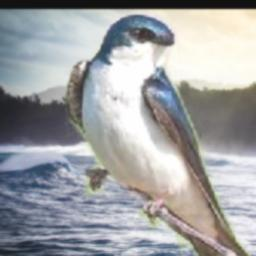Swallow: (66, 10, 255, 256)
